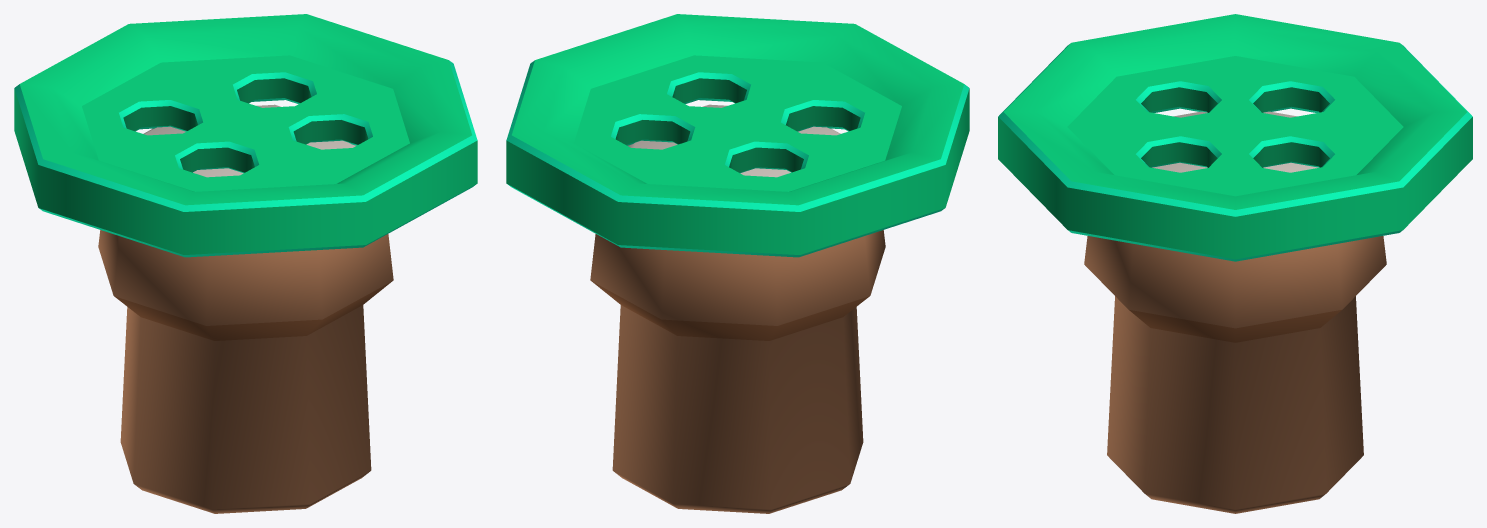
File: BarStool.fbx
3 views of the same model, side by side, from view 1: azimuth 30°, elevation 25°; view 2: azimuth 150°, elevation 25°; view 3: azimuth 270°, elevation 25° (orthographic).
Parts seen in each view (by area): view 1: BarStool; view 2: BarStool; view 3: BarStool.
Part boxes in pixels (box(x1,y1,x2,y2)): BarStool: box(14, 14, 477, 513); BarStool: box(506, 14, 969, 513); BarStool: box(998, 14, 1472, 513).
Bounding box in the file's own units: 0.8741 × 0.7147 × 0.8741.
